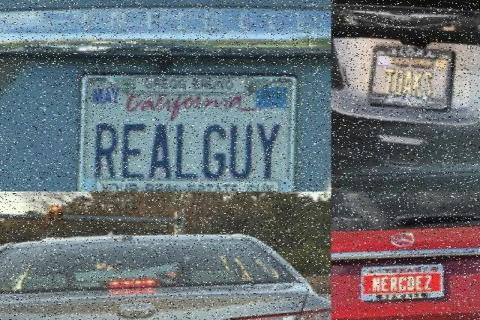LicensePlate: (68, 62, 322, 192), (368, 36, 460, 110), (363, 261, 447, 299)
